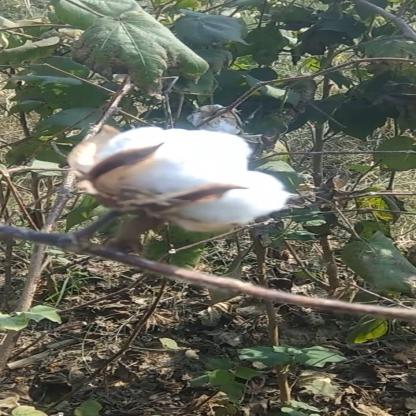cotton_ready: (72, 116, 310, 260)
